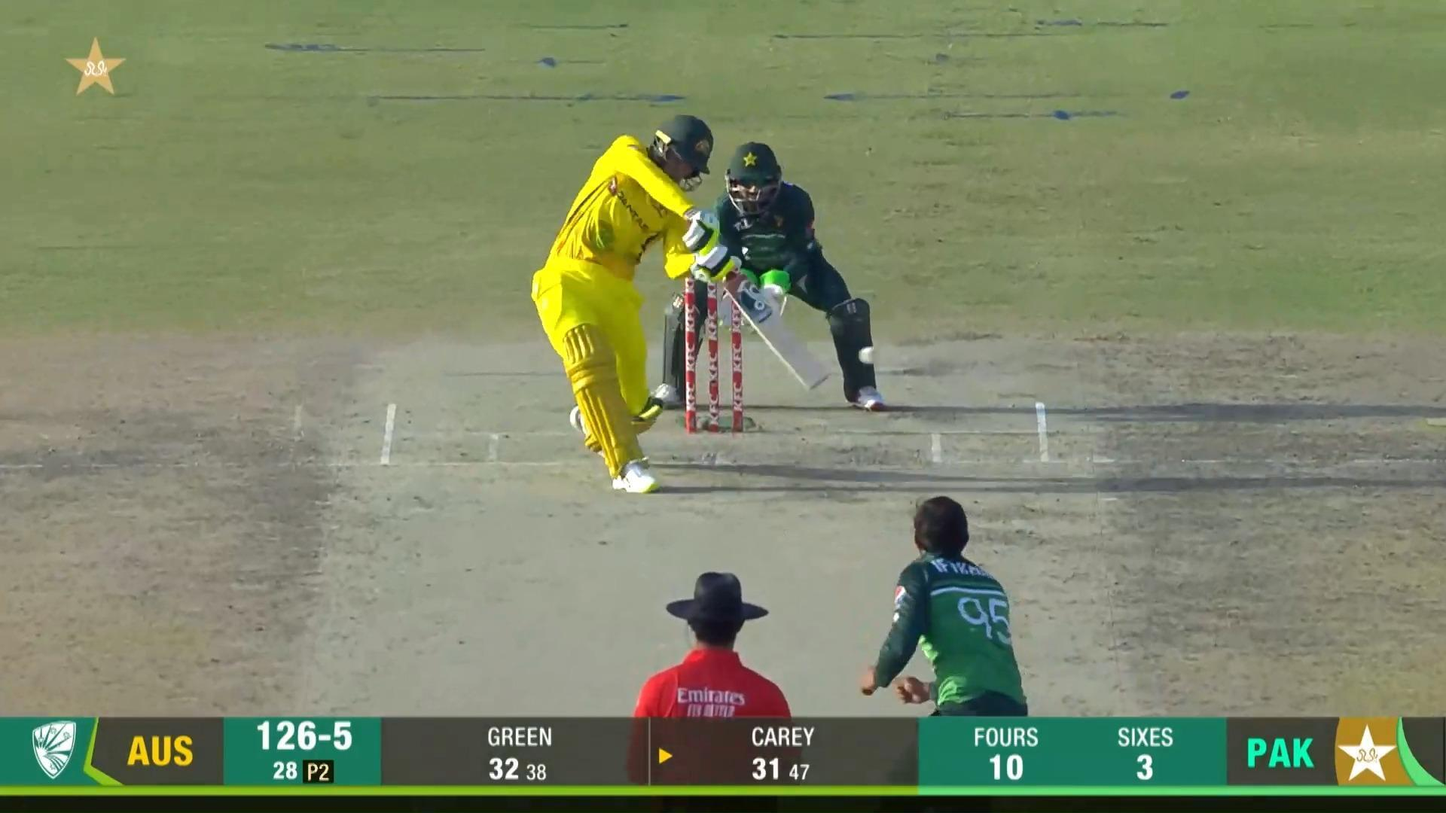BM 1: (530, 113, 834, 494)
BO: (860, 494, 1030, 716)
